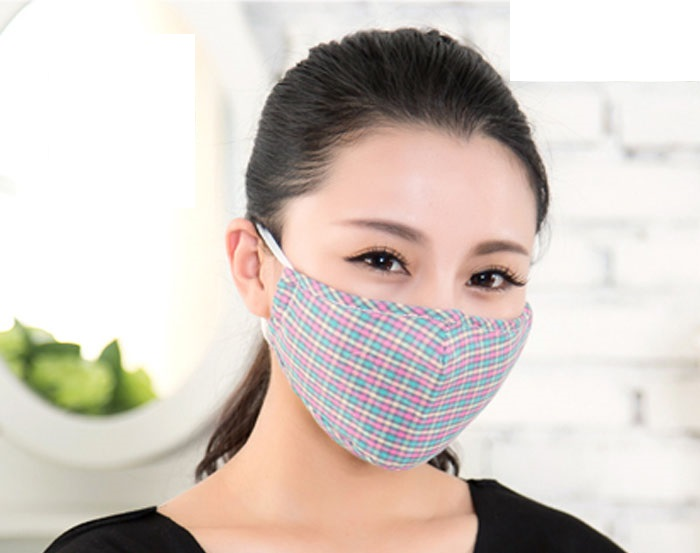face_mask: (279, 134, 540, 446)
